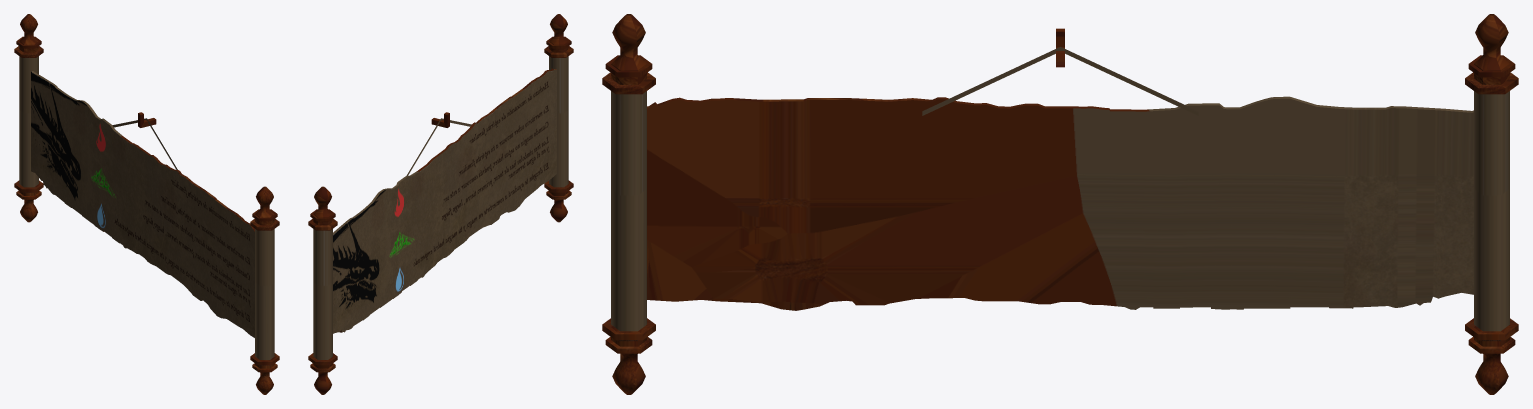
The model's file is SM_Scroll_a_'001.fbx.
3 views of the same model, side by side, from view 1: azimuth 30°, elevation 25°; view 2: azimuth 150°, elevation 25°; view 3: azimuth 270°, elevation 25° (orthographic). The views are drawn at different scales.
Visible parts, largest first — view 1: SM_Scroll_a_'001; view 2: SM_Scroll_a_'001; view 3: SM_Scroll_a_'001.
Boxes of the visible parts, x1,y1,x2,y2 form: SM_Scroll_a_'001: (14,14,279,394); SM_Scroll_a_'001: (308,14,573,394); SM_Scroll_a_'001: (602,14,1518,394).
Bounding box in the file's own units: 4.98 × 44.6 × 97.99.
